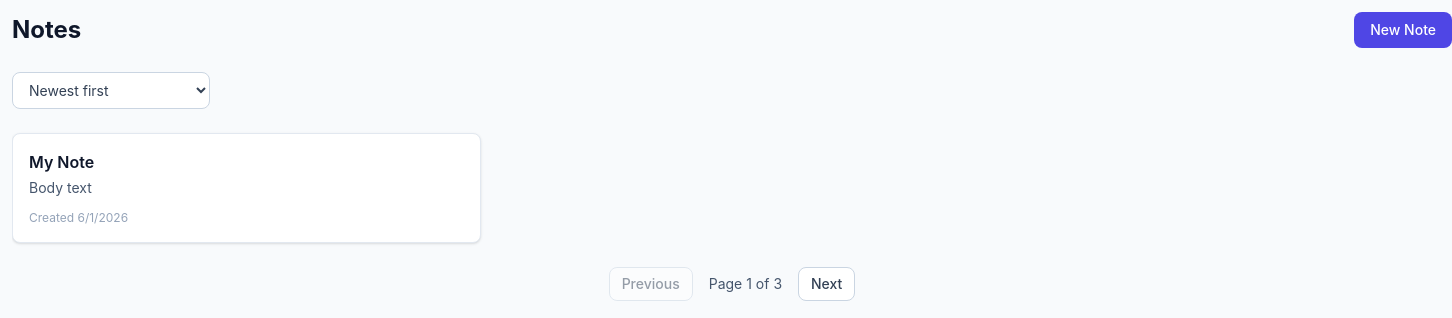
Test: NotesListPage › clicking Pagination "Next" re-fetches with page + 1
Expected: the heading "My Note" is shown, left=29, top=152, right=94, bottom=172
Click the button "Next": (827,284) left=798, top=267, right=855, bottom=301
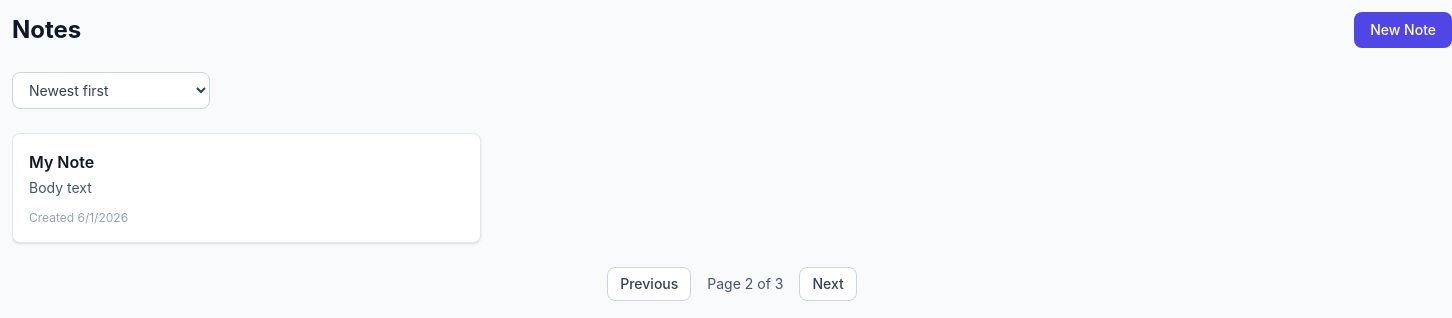
Expected: the text "Page 2 of 3" is shown, left=707, top=274, right=784, bottom=294
